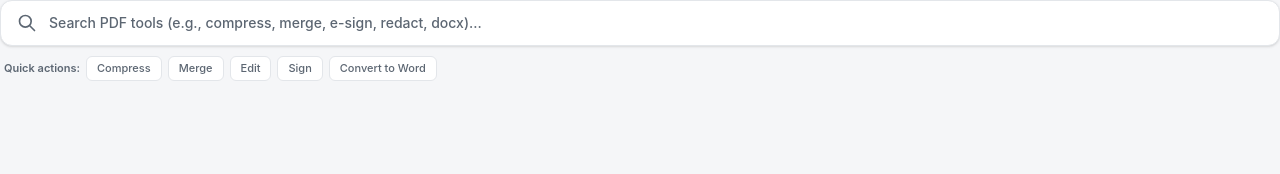
Test: UI Redesign Component Tests › ToolSearch Component › matches legal tools using 'bates'
This screenshot has width=1280, height=174.
Replace the text in the search field with placeholder "Search PDF tools" with "bates": (656, 23) [49, 13, 1263, 33]
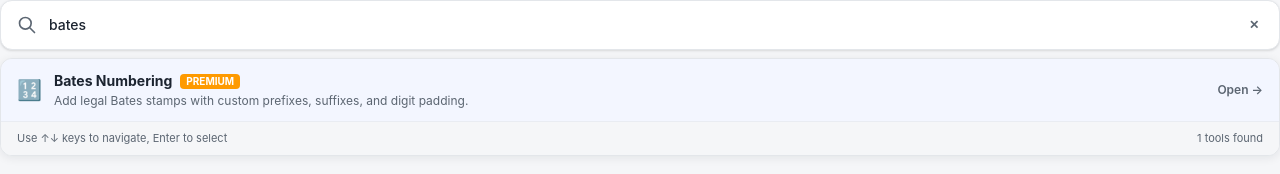
Now the text "Bates Numbering" is shown, box [54, 71, 172, 91]
